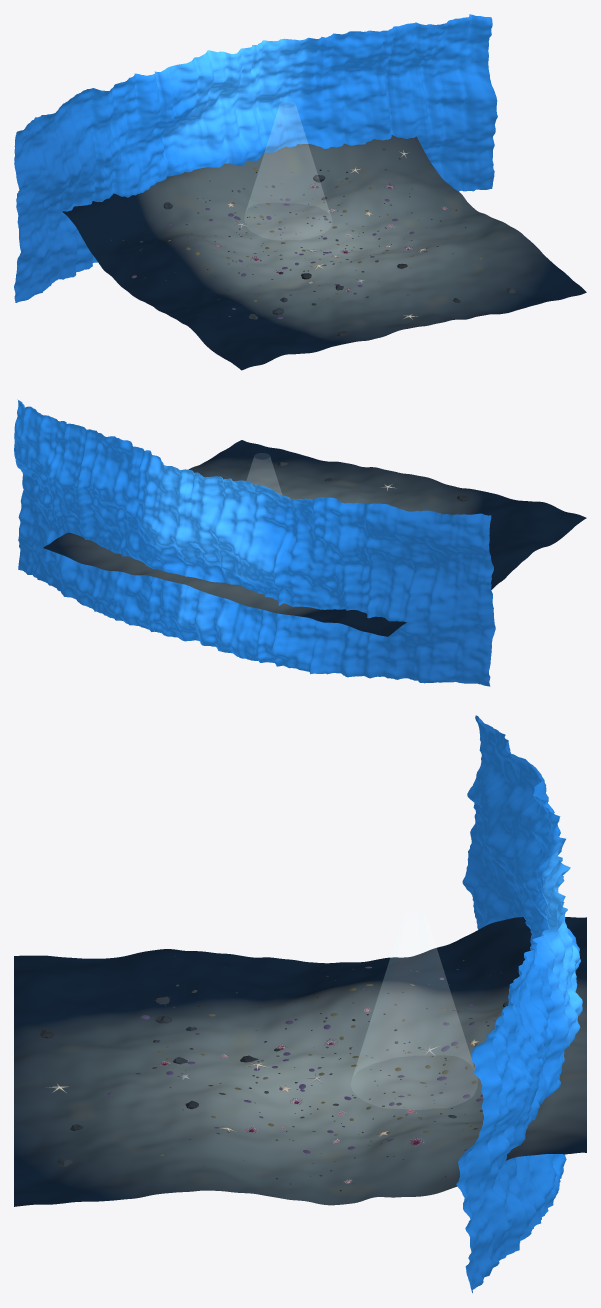
Rendered from fondo_submarino.glb.
The picture shows the model from 3 angles, top to bottom: view 1: azimuth 30°, elevation 25°; view 2: azimuth 150°, elevation 25°; view 3: azimuth 270°, elevation 25°; orthographic projection. The views are drawn at different scales.
Parts seen in each view (by area): view 1: Terreno, MuroHielo, HazLuz; view 2: MuroHielo, Terreno, HazLuz; view 3: Terreno, MuroHielo, HazLuz.
Part boxes in pixels (x1,y1,x2,y2): Terreno: [62, 135, 586, 370]; MuroHielo: [14, 14, 497, 302]; HazLuz: [247, 105, 329, 213]; MuroHielo: [14, 399, 495, 686]; Terreno: [43, 440, 586, 636]; HazLuz: [247, 457, 281, 494]; Terreno: [14, 917, 586, 1206]; MuroHielo: [456, 715, 582, 1293]; HazLuz: [353, 917, 473, 1076].
Bounding box in the file's own units: 110 × 39.02 × 80.
